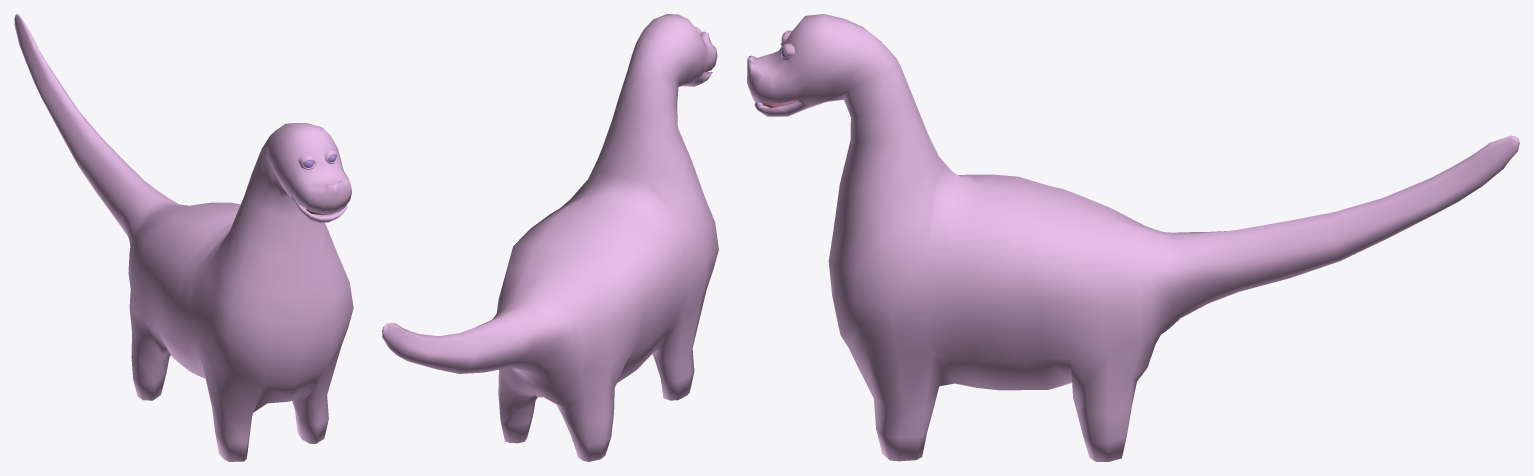
File: dino.fbx
3 views of the same model, side by side, from view 1: azimuth 30°, elevation 25°; view 2: azimuth 150°, elevation 25°; view 3: azimuth 270°, elevation 25° (orthographic). The views are drawn at different scales.
Parts seen in each view (by area): view 1: Dino; view 2: Dino; view 3: Dino.
Boxes of the visible parts, x1,y1,x2,y2 form: Dino: (14,14,353,461); Dino: (382,14,718,461); Dino: (747,14,1519,461).
Bounding box in the file's own units: 43.03 × 103 × 174.
